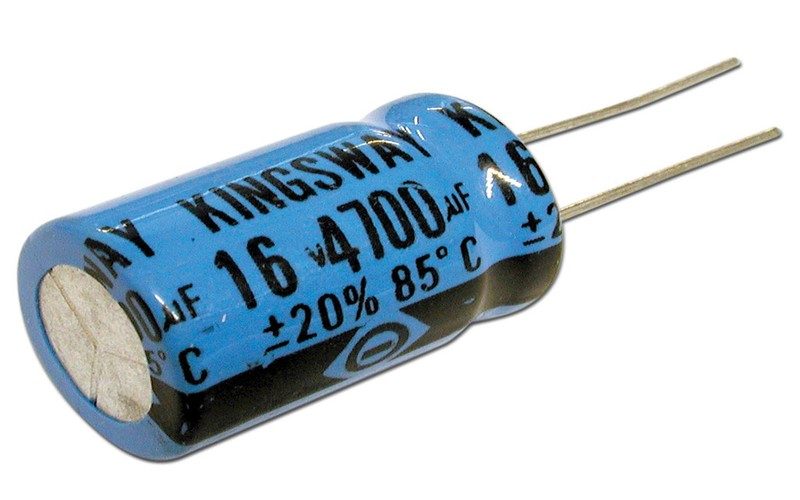Capacitor: (15, 34, 800, 474)
